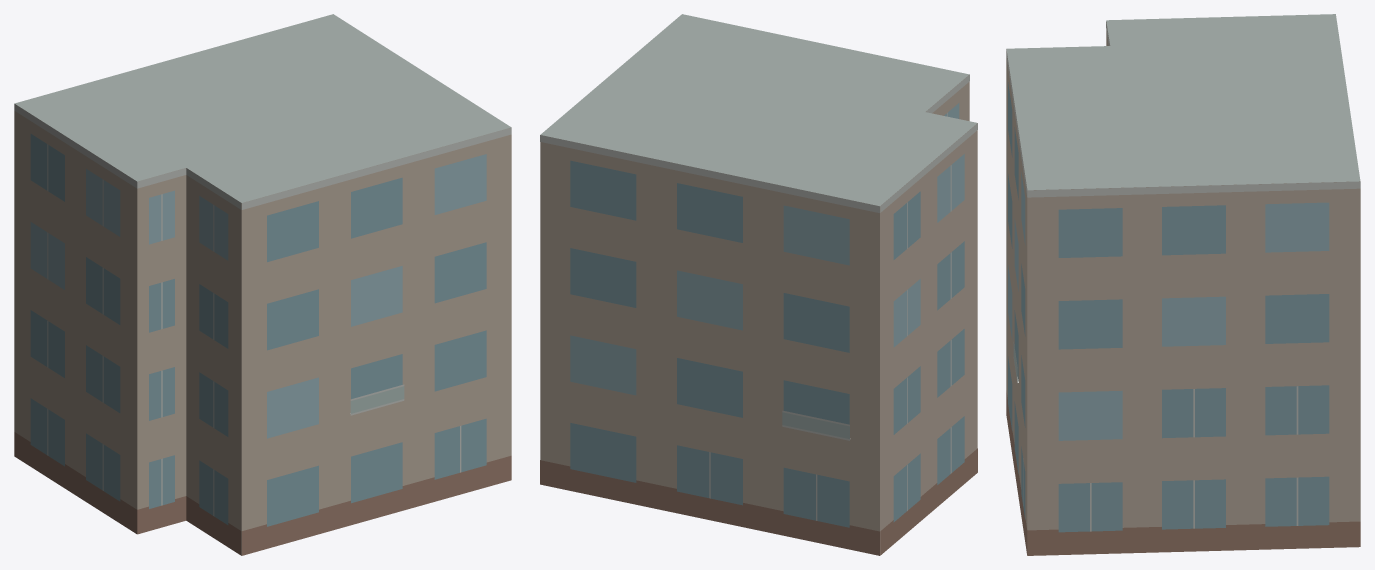
Rendered from residential-d8aef583-d044-4b03-9f30-a997bfaad487.glb.
The picture shows the model from 3 angles, left to right: view 1: azimuth 30°, elevation 25°; view 2: azimuth 150°, elevation 25°; view 3: azimuth 270°, elevation 25°; orthographic projection. The views are drawn at different scales.
Parts seen in each view (by area): view 1: residential-d8aef583-d044-4b03-9f30-a997bfaad487.tmp; view 2: residential-d8aef583-d044-4b03-9f30-a997bfaad487.tmp; view 3: residential-d8aef583-d044-4b03-9f30-a997bfaad487.tmp.
Part boxes in pixels (x1=…): residential-d8aef583-d044-4b03-9f30-a997bfaad487.tmp: x1=14, y1=14, x2=511, y2=555; residential-d8aef583-d044-4b03-9f30-a997bfaad487.tmp: x1=540, y1=14, x2=977, y2=555; residential-d8aef583-d044-4b03-9f30-a997bfaad487.tmp: x1=1006, y1=14, x2=1360, y2=555.
Size of the model in its own units: 12.62 by 12.2 by 10.72.
